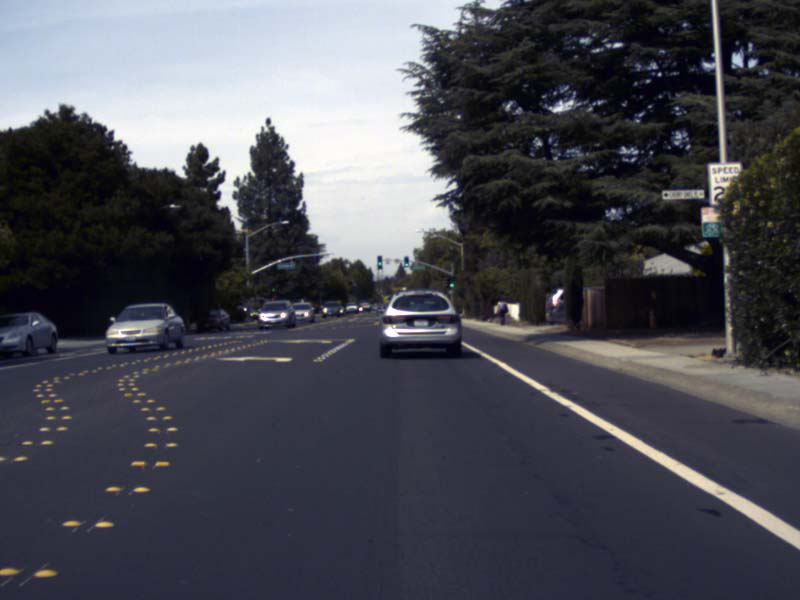Green: (447, 279, 455, 288), (376, 256, 382, 267), (403, 256, 409, 266), (270, 285, 276, 292)
